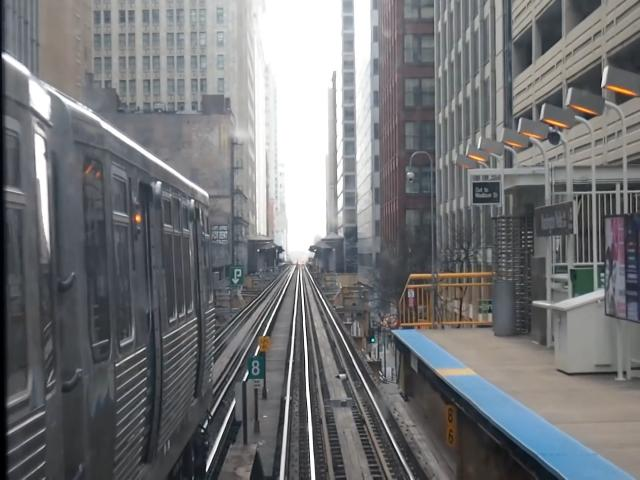signal light: (371, 329, 376, 347)
